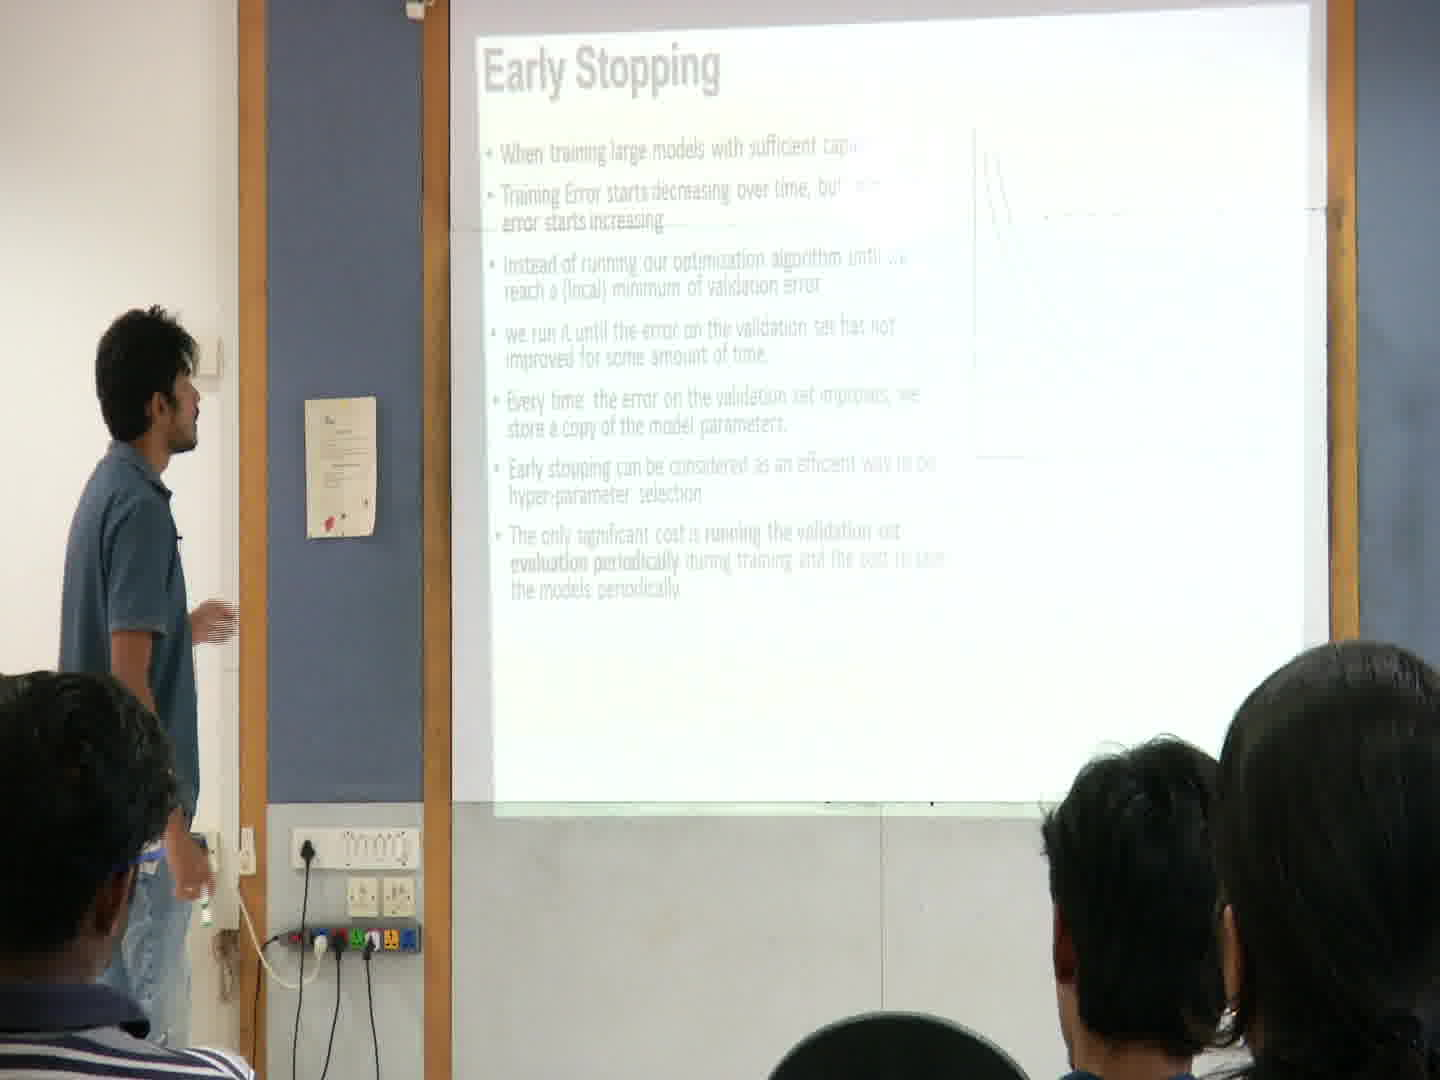slide: (473, 6, 1310, 815)
